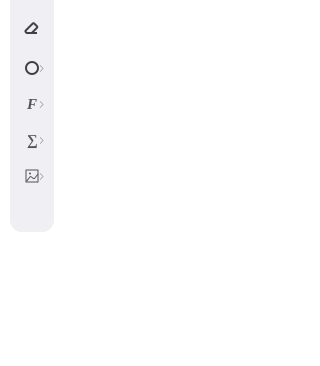
Test: WhiteBoard.vue › §4.9.2 工具栏 IA 分类收纳 › REPRO 真实指针序列：pointerdown+click 后面板保持展开
This screenshot has width=320, height=366.
Press the mouse on the element with test id "wb-group-cue-shape" at (41, 68), box [36,64,46,72]
Click the element with test id "wb-group-cue-shape" at (41, 68), box [36,64,46,72]
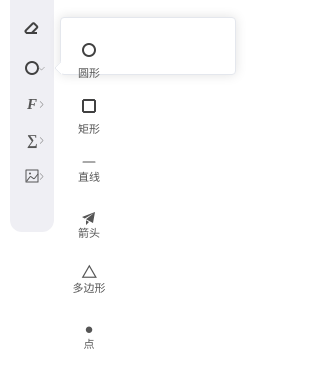
Check: the element with test id "wb-child-circle" is shown, box [73,34,105,78]
